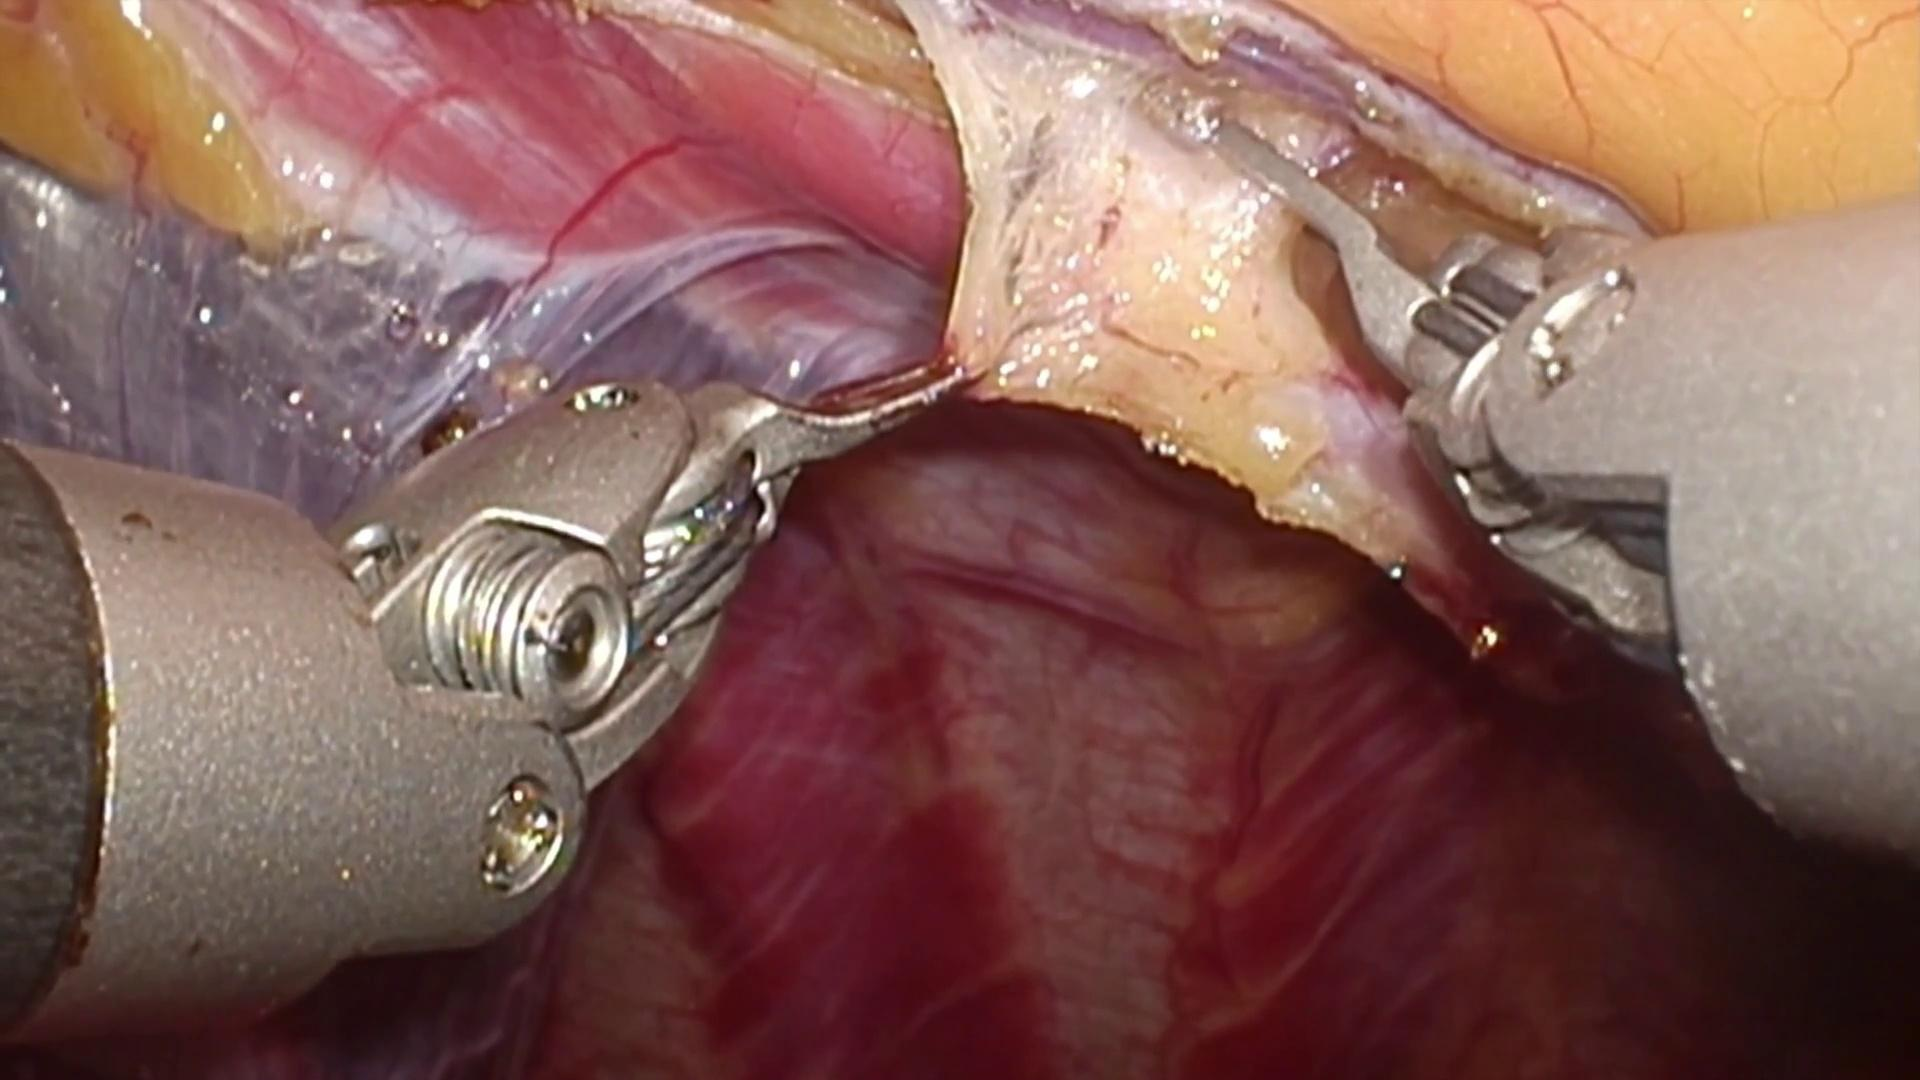Debakey: (698, 359, 957, 508)
clipper: (1203, 111, 1673, 657)
